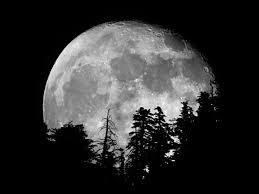moon: (42, 19, 221, 158)
